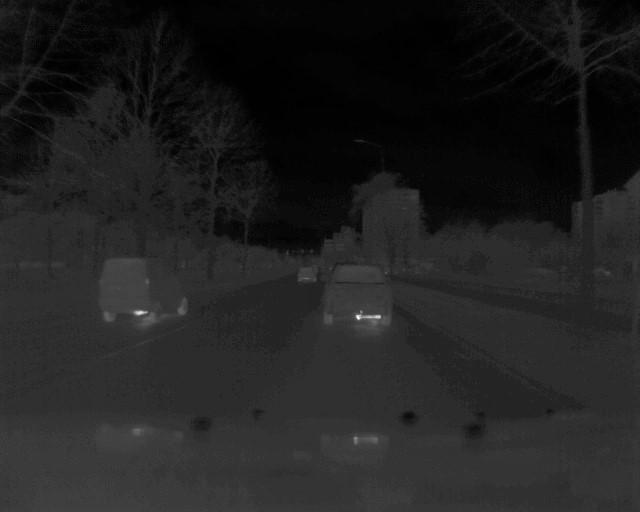car: (97, 253, 189, 324), (320, 259, 394, 329), (295, 265, 317, 283)
